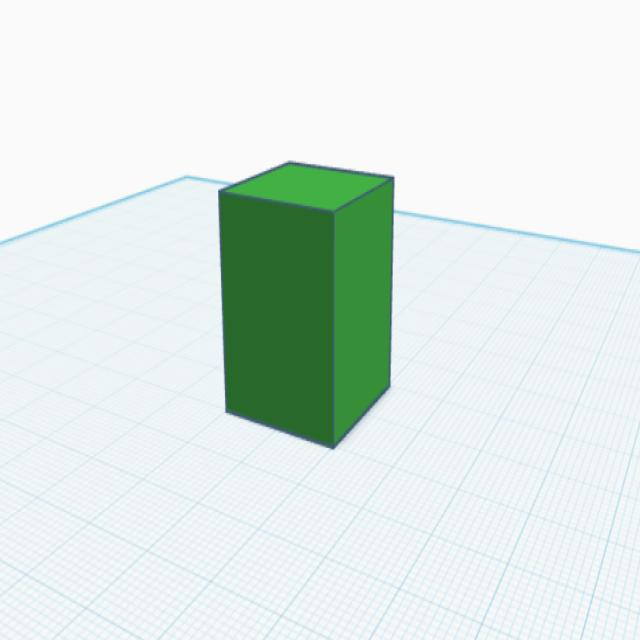cube: (213, 154, 400, 456)
